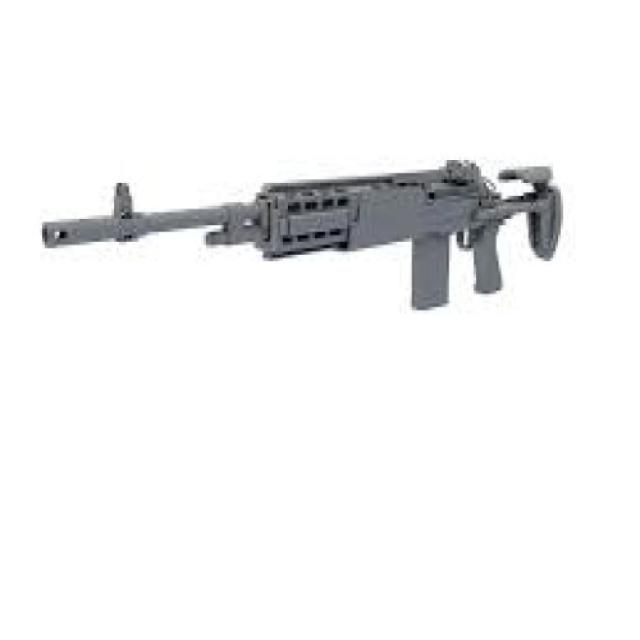Gun: (12, 154, 579, 334)
